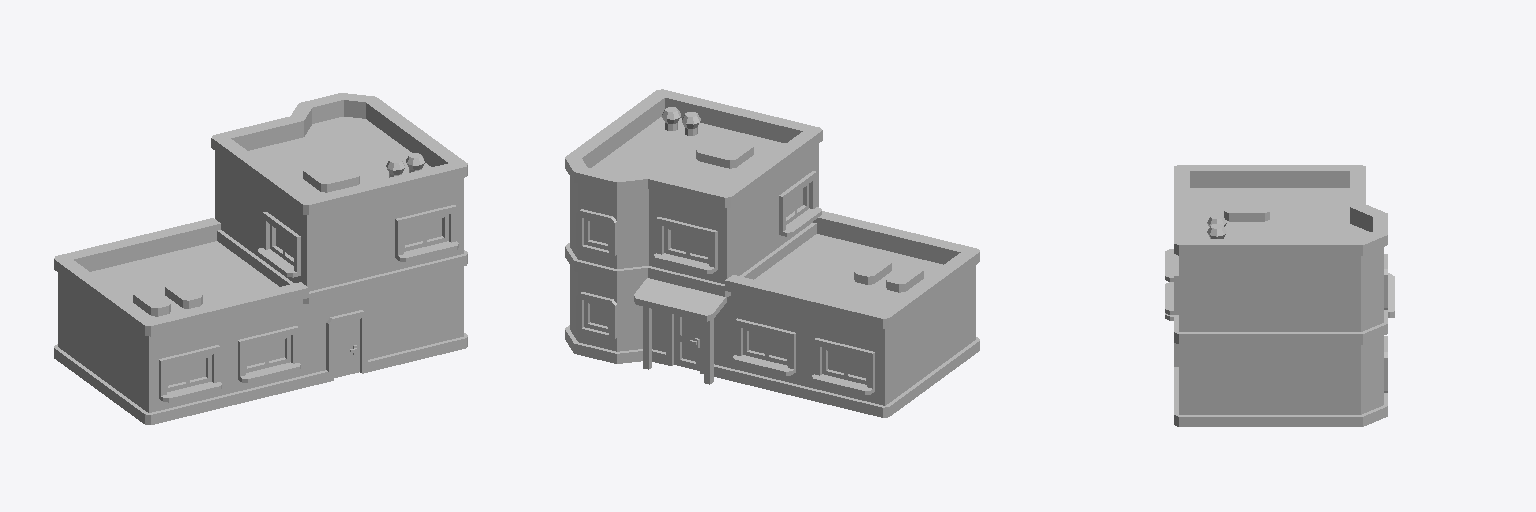
The model's file is building-e.obj.
3 renders of one model, left to right at view 1: azimuth 30°, elevation 25°; view 2: azimuth 150°, elevation 25°; view 3: azimuth 270°, elevation 25°, orthographic.
Parts seen in each view (by area): view 1: building-e; view 2: building-e; view 3: building-e.
Boxes of the visible parts, x1,y1,x2,y2 form: building-e: [54, 93, 467, 424]; building-e: [565, 89, 979, 417]; building-e: [1165, 165, 1394, 426].
Bounding box in the file's own units: 1.64 × 0.893 × 1.01.